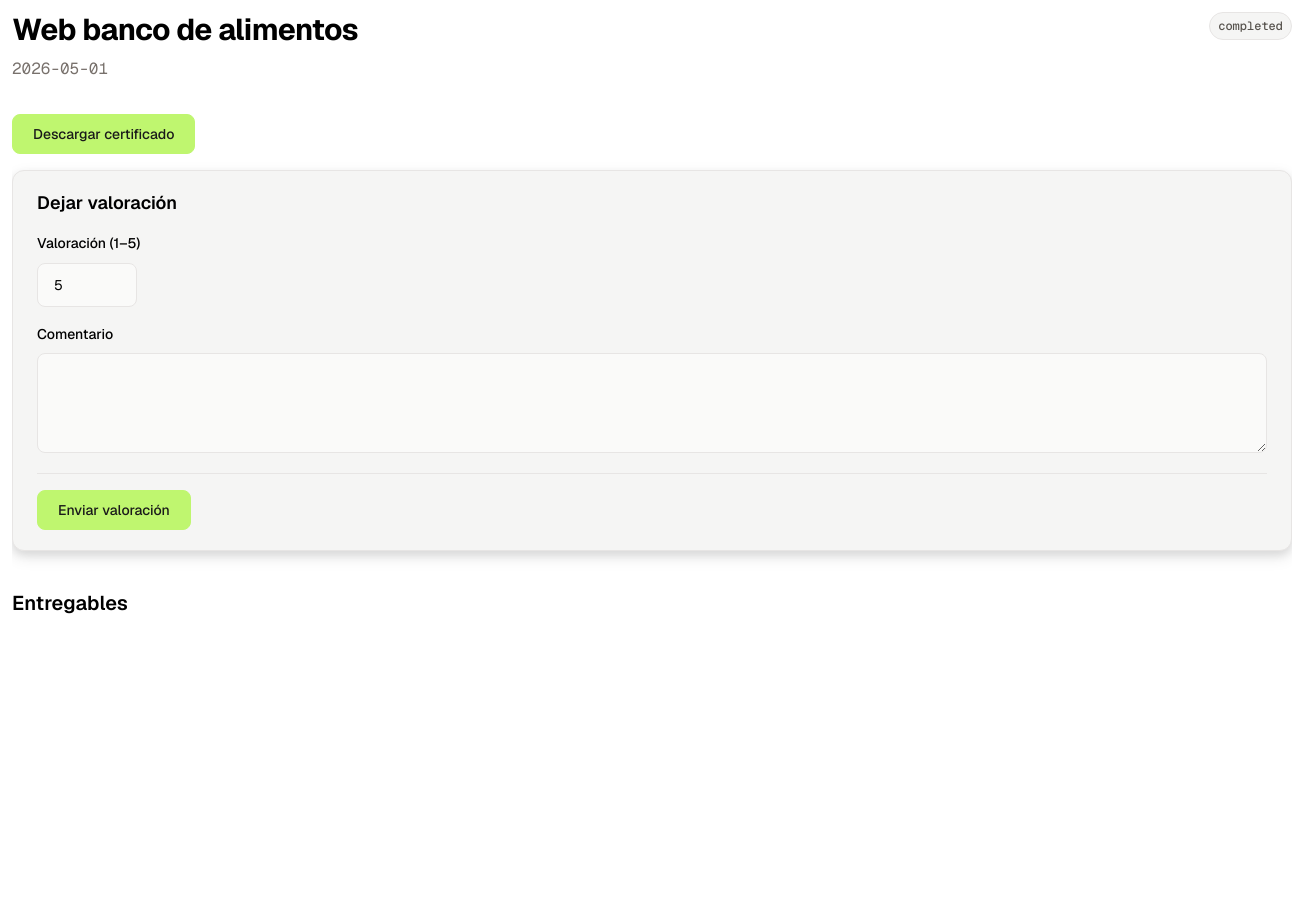
it: StudentAssignmentPage — valoración (HU14) › AC6: error genérico de API muestra mensaje visible
Step 1. Replace the text in the number field named "valoración" with "2" → point(87, 284), box [37, 262, 137, 306]
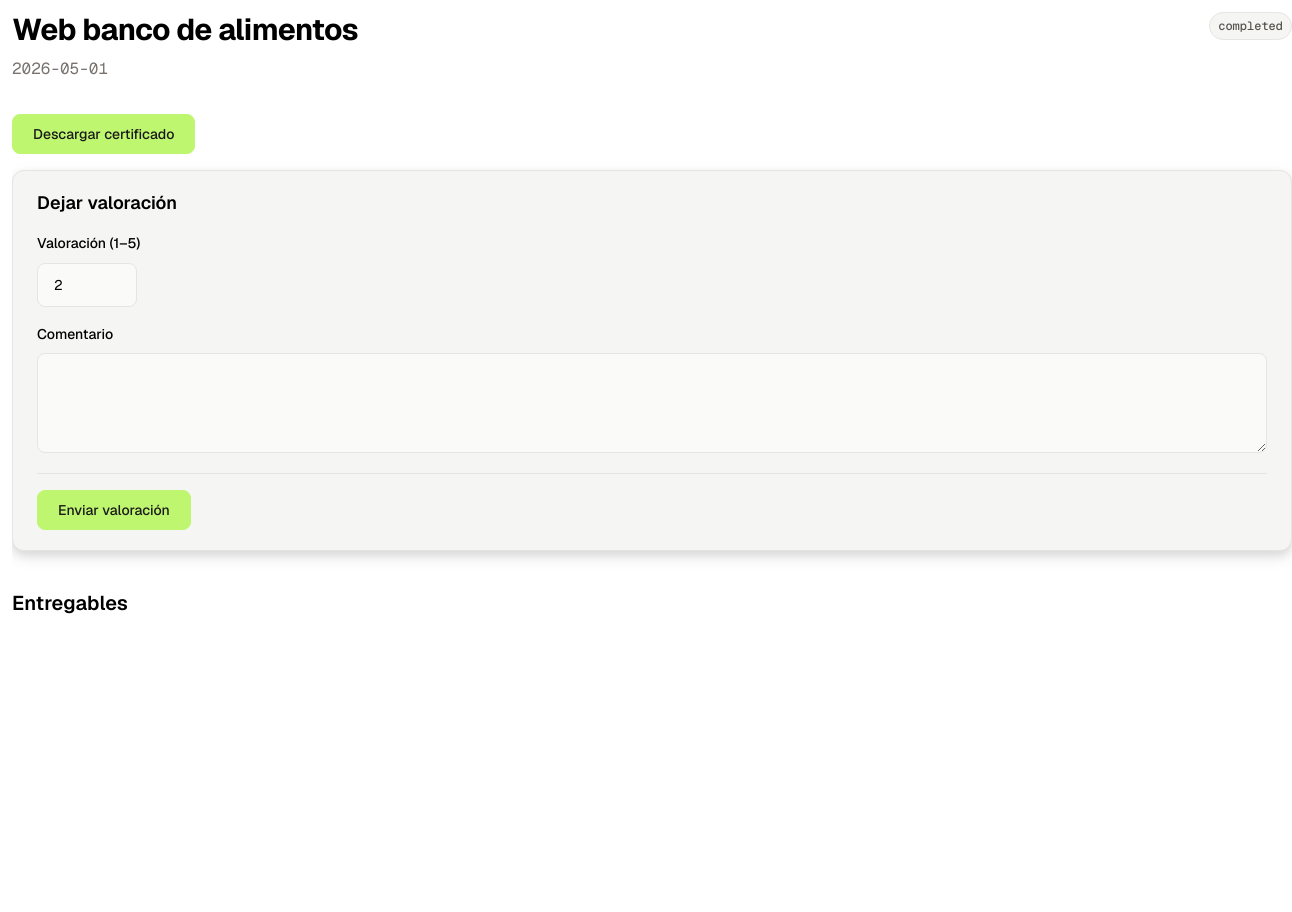
Step 2. Click the button "Enviar valoración" → point(114, 510), box [37, 490, 191, 530]
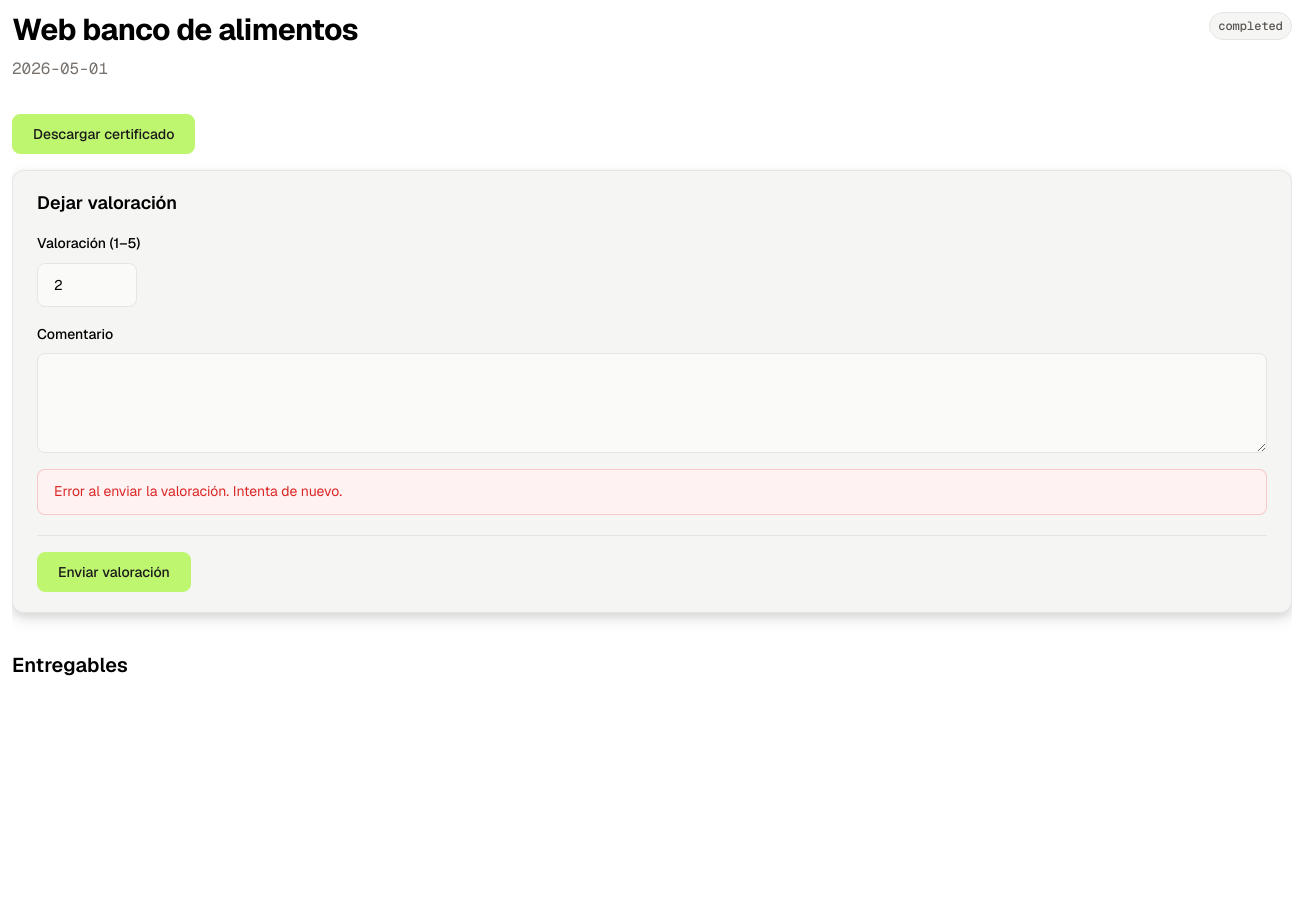
Check: the message "Error al enviar la valoración. Intenta de nuevo." is shown, box [37, 469, 1267, 515]
